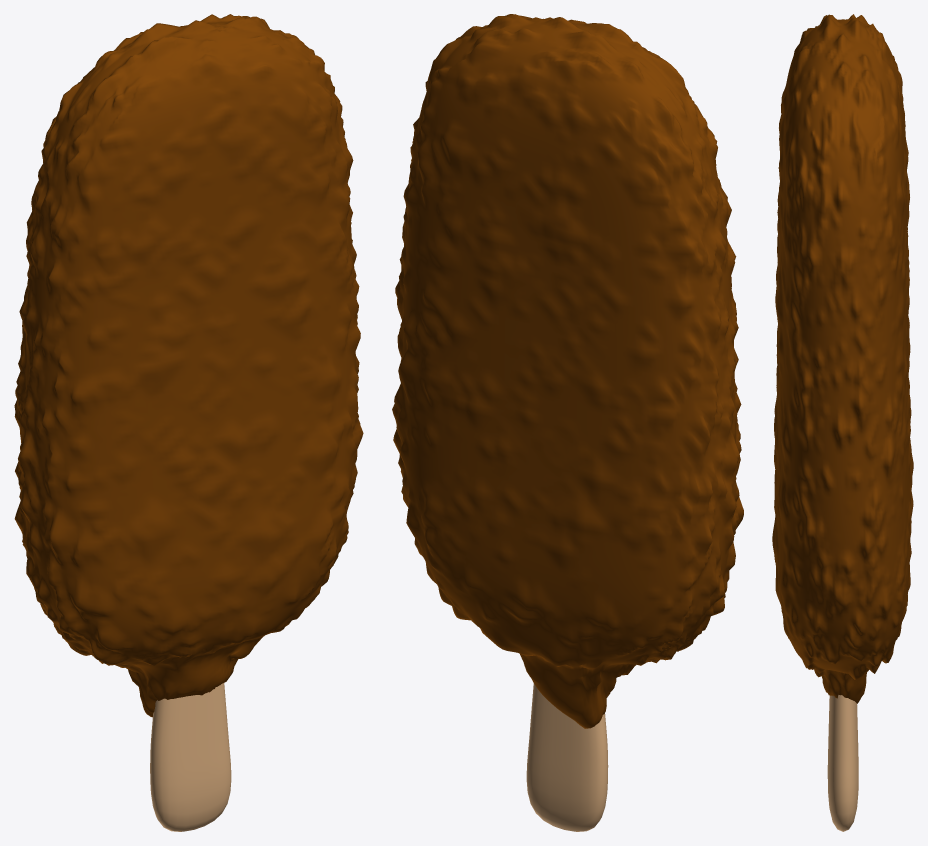
File: Not Eaten.fbx
3 views of the same model, side by side, from view 1: azimuth 30°, elevation 25°; view 2: azimuth 150°, elevation 25°; view 3: azimuth 270°, elevation 25° (orthographic). The views are drawn at different scales.
Visible parts, largest first — view 1: Chocolate.003, Stick.003; view 2: Chocolate.003, Stick.003; view 3: Chocolate.003, Stick.003.
Boxes of the visible parts, x1,y1,x2,y2 form: Chocolate.003: (14,14,363,717); Stick.003: (150,683,231,831); Chocolate.003: (392,14,743,728); Stick.003: (526,683,608,831); Chocolate.003: (772,14,913,703); Stick.003: (827,695,858,831).
Size of the model in its own units: 183 by 420 by 67.79.
